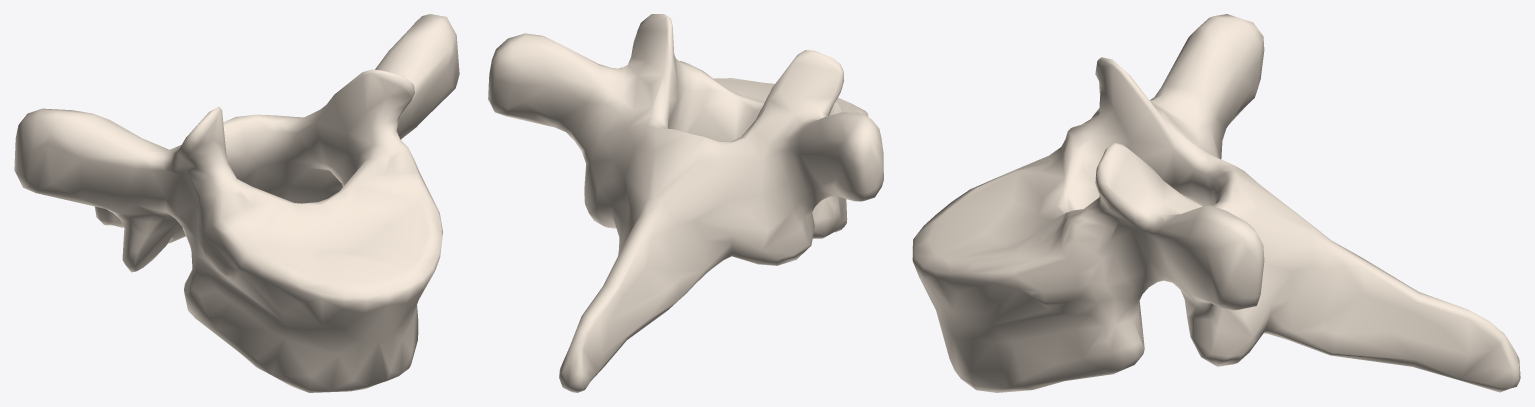
3 renders of one model, left to right at view 1: azimuth 30°, elevation 25°; view 2: azimuth 150°, elevation 25°; view 3: azimuth 270°, elevation 25°, orthographic. The views are drawn at different scales.
Parts seen in each view (by area): view 1: Thoracic vertebrae (T3); view 2: Thoracic vertebrae (T3); view 3: Thoracic vertebrae (T3).
Part boxes in pixels (x1=…): Thoracic vertebrae (T3): x1=14, y1=14, x2=459, y2=392; Thoracic vertebrae (T3): x1=488, y1=14, x2=883, y2=392; Thoracic vertebrae (T3): x1=912, y1=14, x2=1520, y2=392.
Size of the model in its own units: 0.0688 by 0.0408 by 0.0781.
